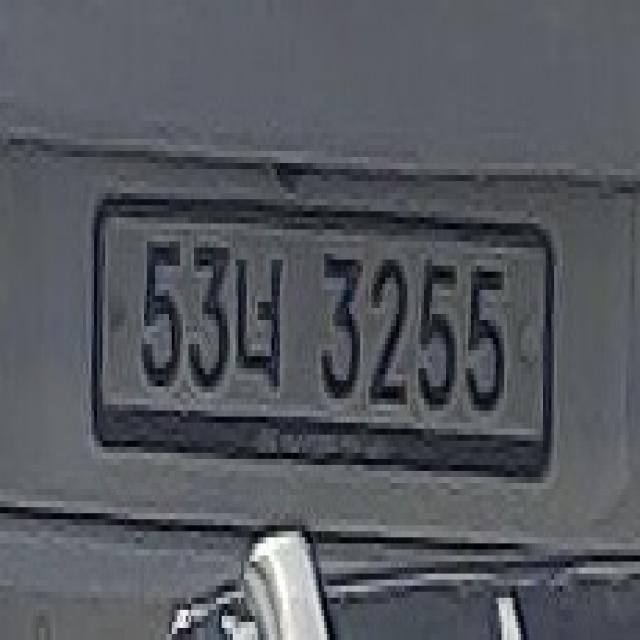2: (363, 247, 418, 398)
3: (316, 242, 366, 404), (183, 242, 235, 392)
5: (413, 254, 460, 416), (142, 235, 188, 392), (466, 259, 512, 416)
license_plate: (91, 187, 557, 483)
neo: (222, 248, 288, 392)
